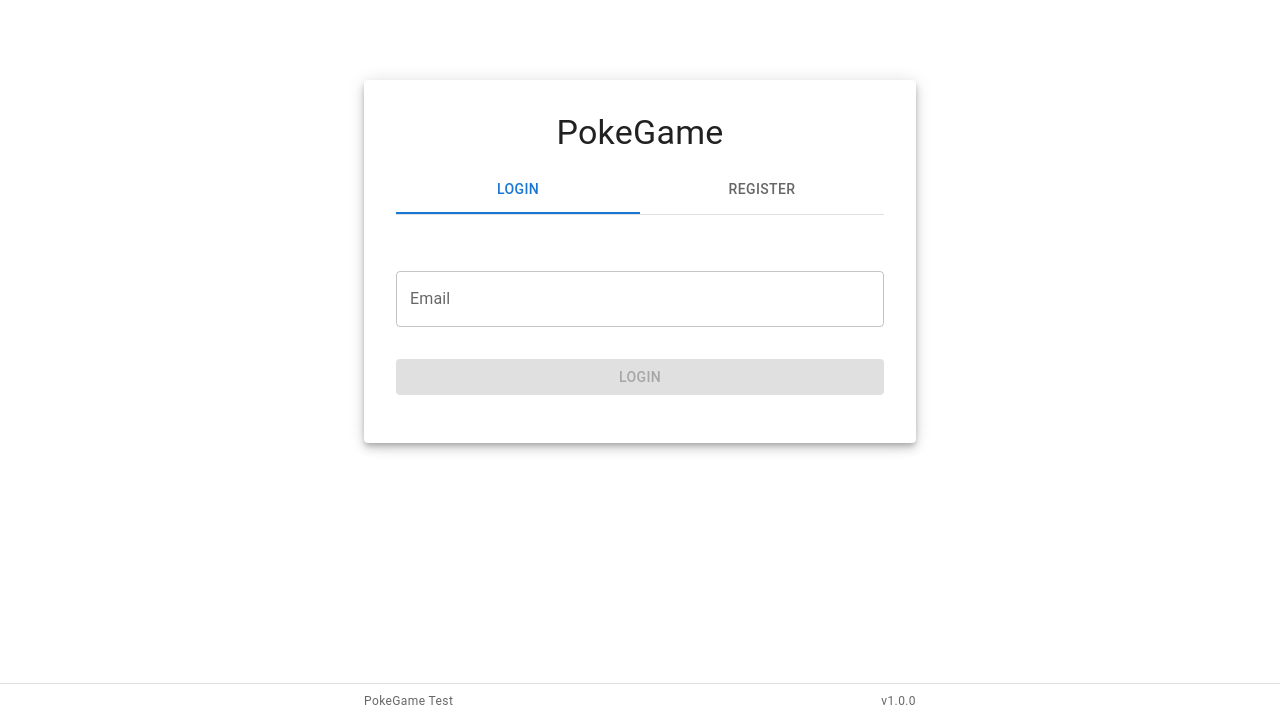
Test: LoginPage › tab switching › should switch back to login tab
# Switch to register
Step 1. Click the tab "Register" → (762, 190), box 640,166 -> 884,214
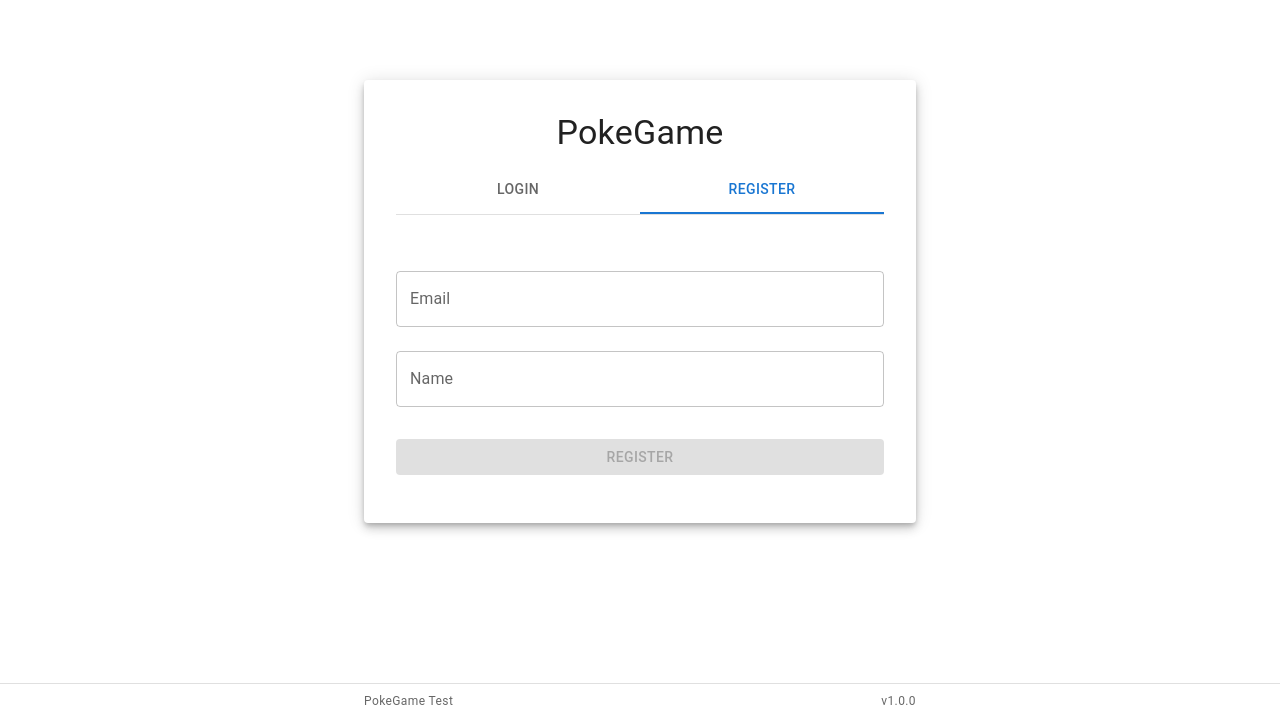
expect the form with test id "register-form" is shown: met, box 396,255 -> 884,491
# Switch back to login
Step 2. Click the tab "Login" → (518, 190), box 396,166 -> 640,214
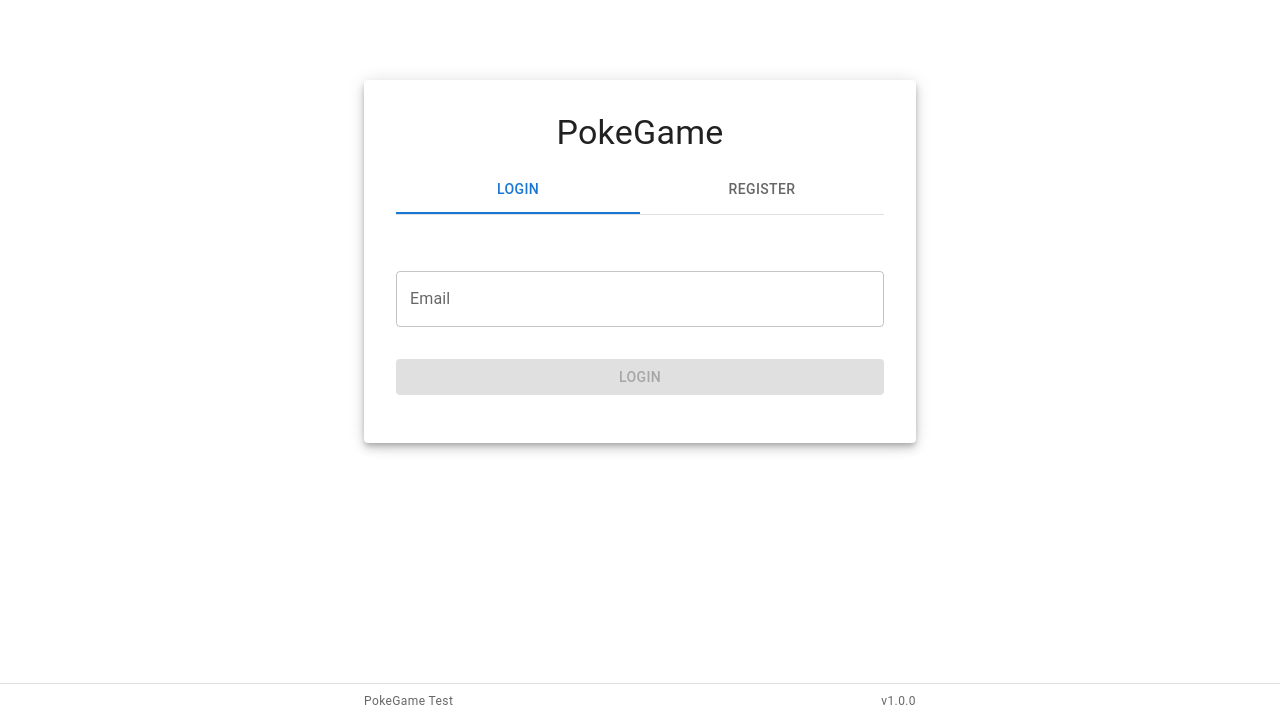
expect the form with test id "login-form" is shown: met, box 396,255 -> 884,411
